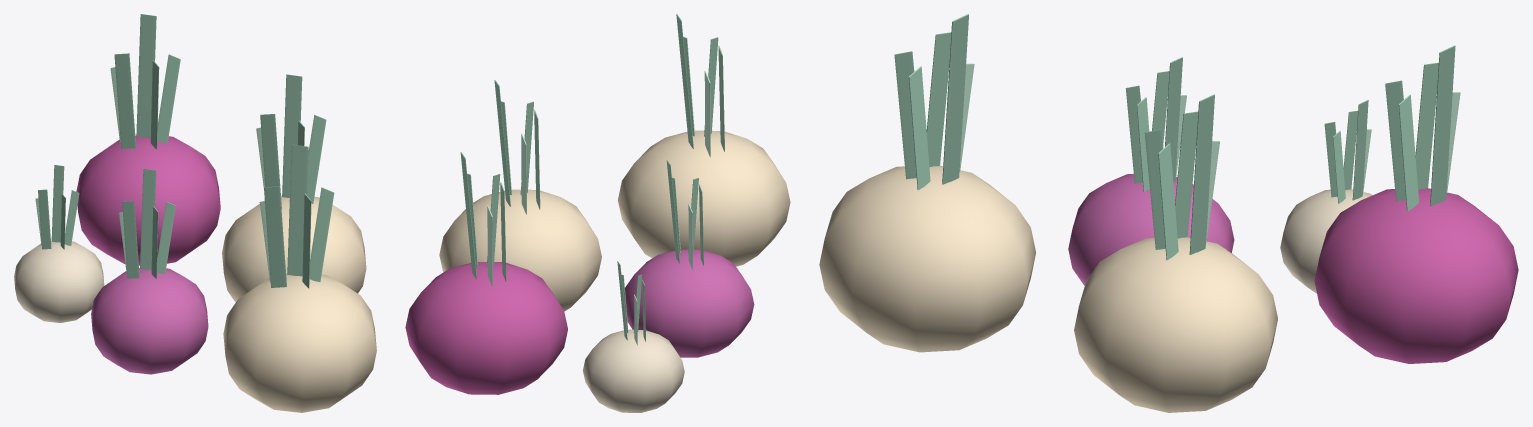
The model's file is onion.gltf.
3 views of the same model, side by side, from view 1: azimuth 30°, elevation 25°; view 2: azimuth 150°, elevation 25°; view 3: azimuth 270°, elevation 25° (orthographic). The views are drawn at different scales.
Visible parts, largest first — view 1: Sphere_2 (×5), Box_-_baked_5 (×5), Box_-_baked_2 (×5), Box_-_baked_4 (×5), Box_-_baked_3 (×3); view 2: Sphere_2 (×5), Box_-_baked_5 (×7), Box_-_baked_3 (×3), Box_-_baked_2 (×3), Box_-_baked_4; view 3: Sphere_2 (×5), Box_-_baked_5 (×5), Box_-_baked_2 (×5), Box_-_baked_3 (×4), Box_-_baked_4 (×4).
Part boxes in pixels (x1=…): Sphere_2 (×5): x1=14, y1=135, x2=376, y2=412; Box_-_baked_5 (×5): x1=51, y1=14, x2=308, y2=276; Box_-_baked_2 (×5): x1=38, y1=53, x2=286, y2=287; Box_-_baked_4 (×5): x1=65, y1=54, x2=334, y2=281; Box_-_baked_3 (×3): x1=150, y1=60, x2=311, y2=288; Sphere_2 (×5): x1=405, y1=130, x2=790, y2=412; Box_-_baked_5 (×7): x1=460, y1=14, x2=710, y2=286; Box_-_baked_3 (×3): x1=486, y1=37, x2=718, y2=267; Box_-_baked_2 (×3): x1=500, y1=45, x2=724, y2=281; Box_-_baked_4: x1=683, y1=37, x2=694, y2=136; Sphere_2 (×5): x1=819, y1=165, x2=1518, y2=412; Box_-_baked_5 (×5): x1=942, y1=14, x2=1455, y2=254; Box_-_baked_2 (×5): x1=926, y1=32, x2=1438, y2=238; Box_-_baked_3 (×4): x1=894, y1=51, x2=1405, y2=249; Box_-_baked_4 (×4): x1=909, y1=66, x2=1418, y2=260.
Size of the model in its own units: 173 by 150 by 278.
